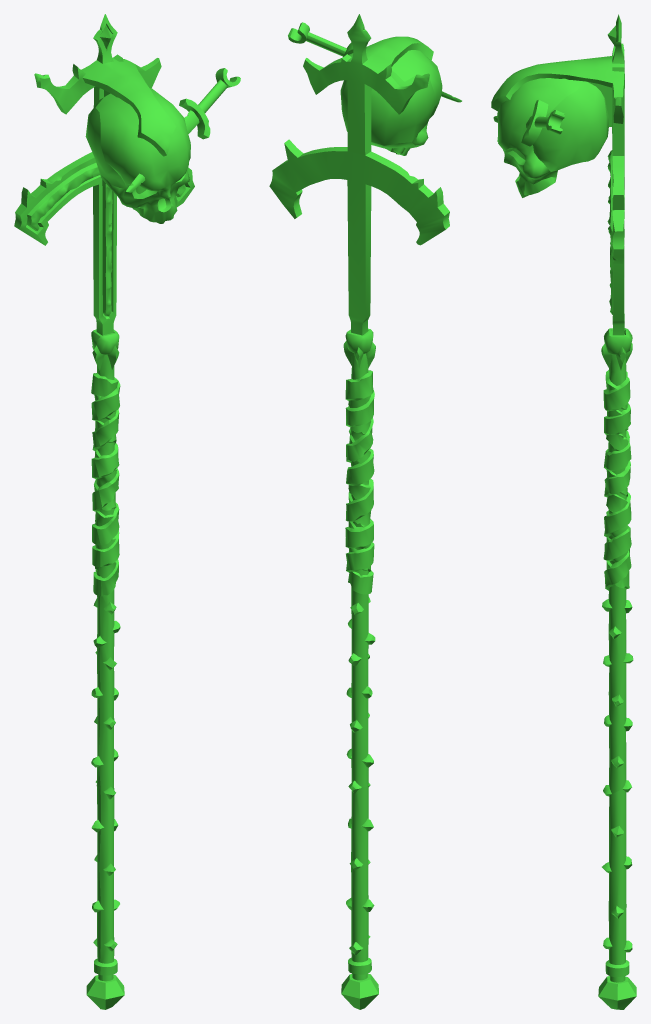
Rendered from SM_Undead_Staff_2.fbx.
3 renders of one model, left to right at view 1: azimuth 30°, elevation 25°; view 2: azimuth 150°, elevation 25°; view 3: azimuth 270°, elevation 25°, orthographic.
Parts seen in each view (by area): view 1: SM_Undead_Staff_2; view 2: SM_Undead_Staff_2; view 3: SM_Undead_Staff_2.
Boxes of the visible parts, left/top/right/bottom form: SM_Undead_Staff_2: left=14, top=14, right=240, bottom=1009; SM_Undead_Staff_2: left=269, top=14, right=461, bottom=1009; SM_Undead_Staff_2: left=491, top=14, right=636, bottom=1009.
Size of the model in its own units: 0.3976 by 1.98 by 0.2622.
